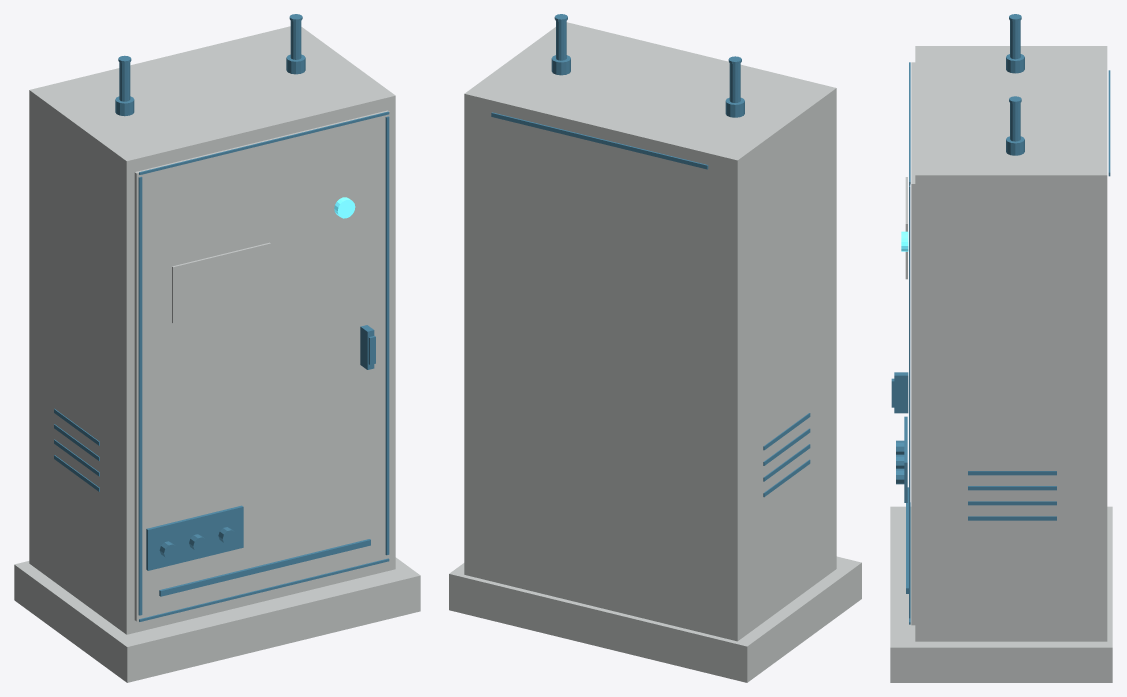
Rendered from iot-gateway.glb.
3 views of the same model, side by side, from view 1: azimuth 30°, elevation 25°; view 2: azimuth 150°, elevation 25°; view 3: azimuth 270°, elevation 25° (orthographic). The views are drawn at different scales.
Parts seen in each view (by area): view 1: GW_BODY, GW_ANTENNA; view 2: GW_BODY, GW_ANTENNA; view 3: GW_BODY, GW_ANTENNA.
Boxes of the visible parts, <box> form: GW_BODY: <box>14,26,420,682</box>; GW_ANTENNA: <box>54,14,389,621</box>; GW_BODY: <box>449,22,861,682</box>; GW_ANTENNA: <box>491,14,810,497</box>; GW_BODY: <box>890,46,1112,682</box>; GW_ANTENNA: <box>891,14,1110,624</box>.
Size of the model in its own units: 1.2 by 2.2 by 0.8.
